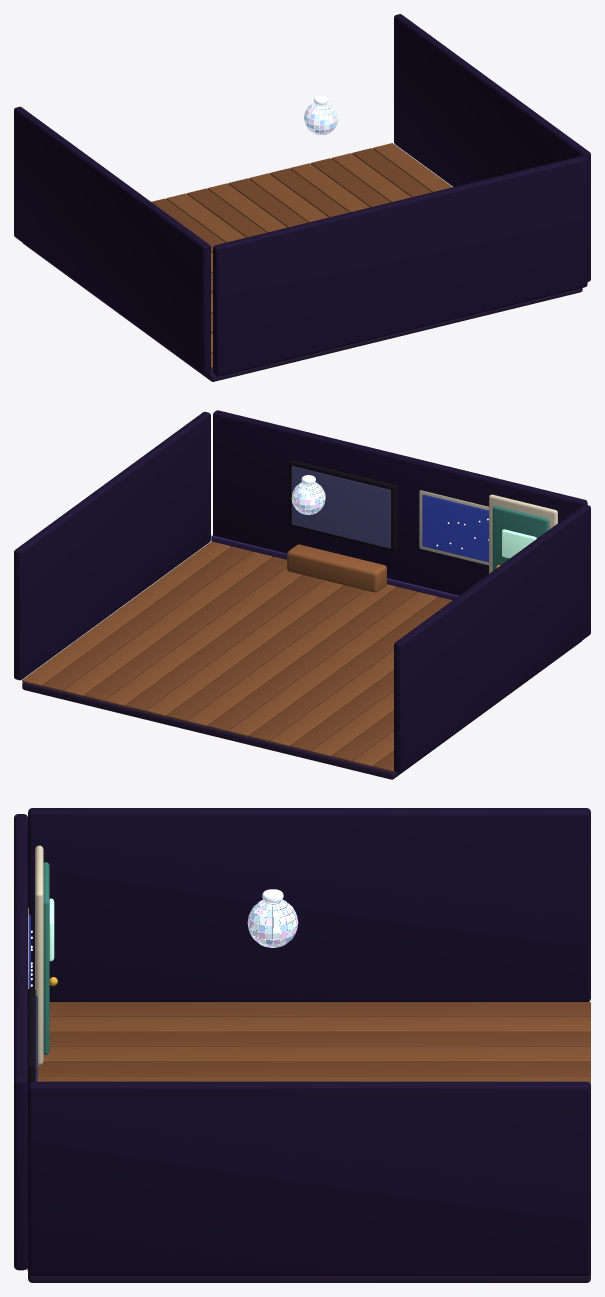
Rendered from room_house.glb.
The picture shows the model from 3 angles, top to bottom: view 1: azimuth 30°, elevation 25°; view 2: azimuth 150°, elevation 25°; view 3: azimuth 270°, elevation 25°; orthographic projection. The views are drawn at different scales.
Parts seen in each view (by area): view 1: Room, Floor, DiscoBall; view 2: Room, Floor, Screen, WindowSky, HouseTvStand, Yard door, ScreenFrame, Yard door trim, DiscoBall, WindowFrame, Yard door glass; view 3: Room, Floor, DiscoBall, Yard door trim, Yard door, ScreenFrame.
Part boxes in pixels (<box>): Room: <box>14,14,590,381</box>; Floor: <box>151,143,452,372</box>; DiscoBall: <box>304,102,337,135</box>; Room: <box>14,410,590,779</box>; Floor: <box>22,541,452,771</box>; Screen: <box>291,466,390,548</box>; WindowSky: <box>422,494,488,562</box>; HouseTvStand: <box>287,544,386,592</box>; Yard door: <box>492,506,549,570</box>; ScreenFrame: <box>289,459,396,552</box>; Yard door trim: <box>489,494,557,573</box>; DiscoBall: <box>291,482,325,514</box>; WindowFrame: <box>419,490,488,565</box>; Yard door glass: <box>502,529,536,558</box>; Room: <box>14,808,590,1282</box>; Floor: <box>38,1002,590,1084</box>; DiscoBall: <box>247,900,298,947</box>; Yard door trim: <box>35,845,43,1065</box>; Yard door: <box>43,862,49,1054</box>; ScreenFrame: <box>28,987,35,1084</box>.
Size of the model in its own units: 9.4 by 4.11 by 8.2.
